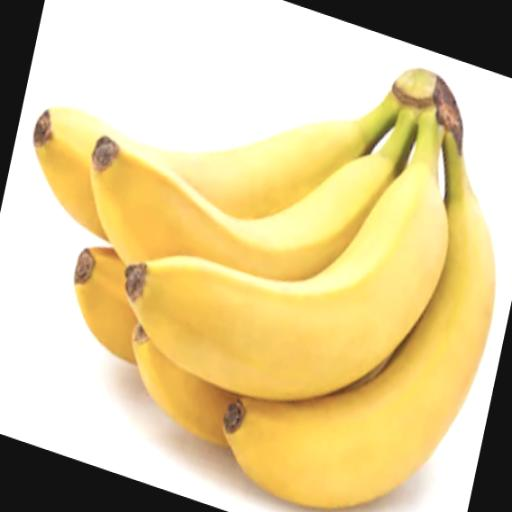banana-ripe: (17, 7, 504, 512)
